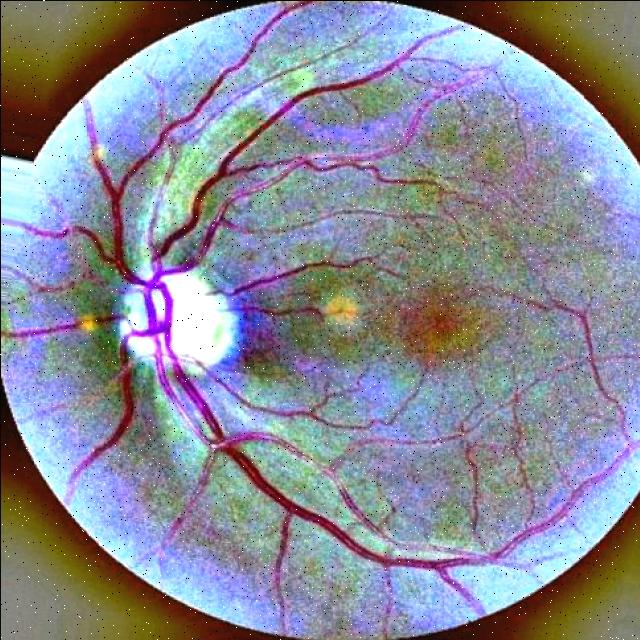Macula: (380, 265, 490, 381)
Nerves: (76, 47, 604, 592)
Optic Disk: (86, 228, 284, 407)
